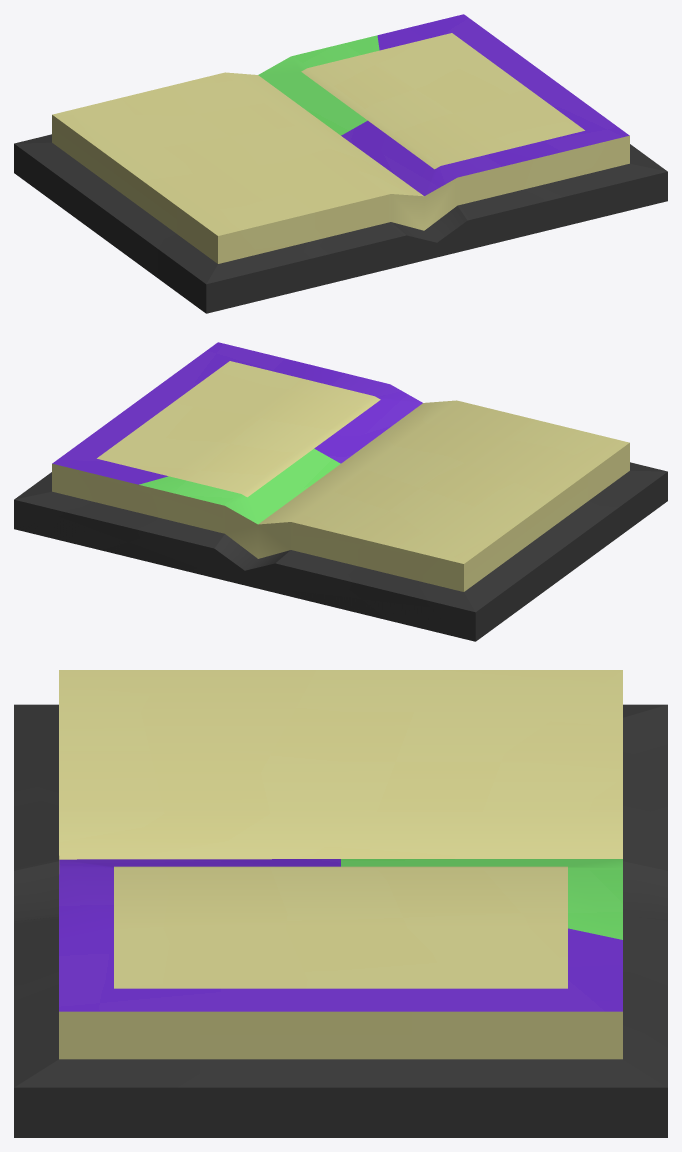
Rendered from ALBUM_FOTOS 1.fbx.
3 renders of one model, top to bottom at view 1: azimuth 30°, elevation 25°; view 2: azimuth 150°, elevation 25°; view 3: azimuth 270°, elevation 25°, orthographic. The views are drawn at different scales.
Parts seen in each view (by area): view 1: ALBUM; view 2: ALBUM; view 3: ALBUM.
Boxes of the visible parts, box(x1,y1,x2,y2) form: ALBUM: box(14, 14, 667, 313); ALBUM: box(14, 342, 667, 641); ALBUM: box(14, 670, 667, 1137).
Size of the model in its own units: 29.95 by 3.84 by 21.61.
